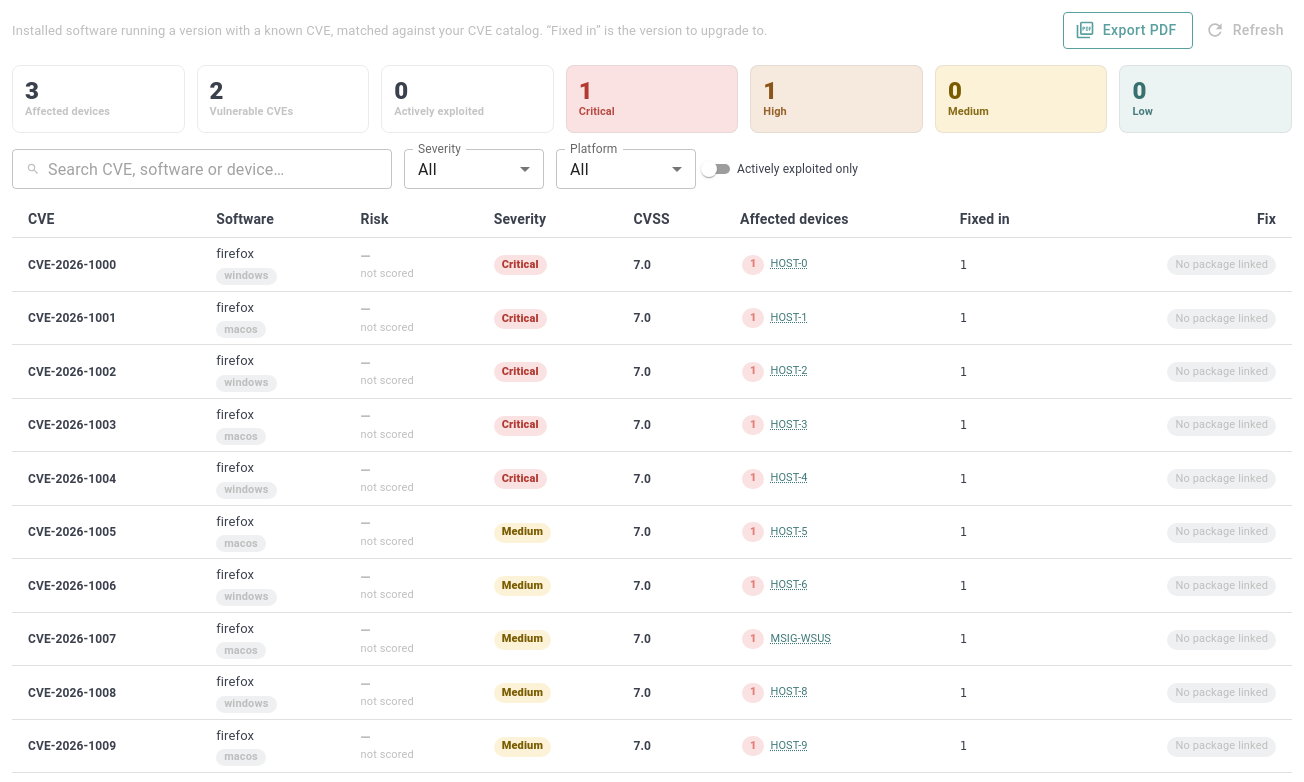
Scenario: ⭐ Vulnerabilities se puede recorrer › busca por nombre de equipo
Check: the text "CVE-2026-1000" is shown, box [28,258,116,272]
Type "msig-wsus" into the field named "Search vulnerabilities". click: (220, 169)
box: [48,149,392,189]
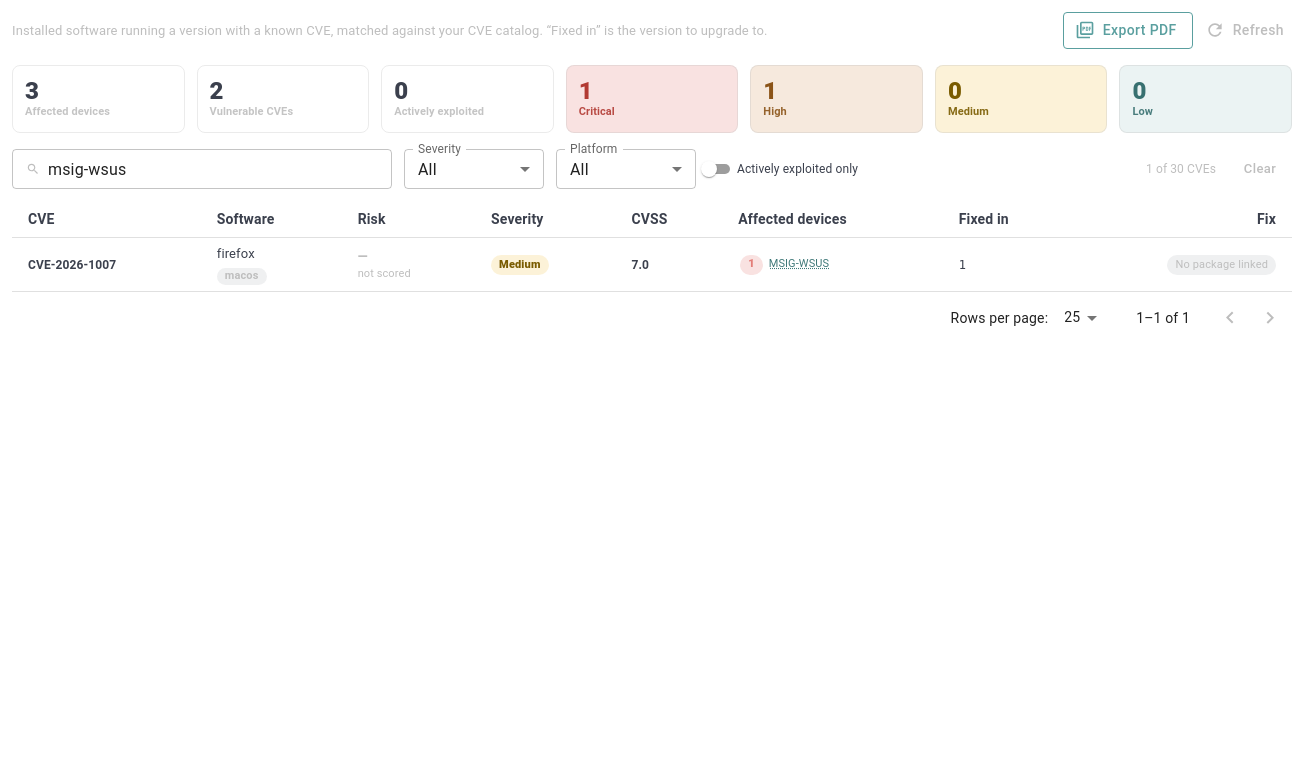
Check: the text "CVE-2026-1007" is shown, box [28,258,116,272]
Check: the text "CVE-2026-1000" is gone
Check: the text "1 of 30 CVEs" is shown, box [1146,160,1216,178]
